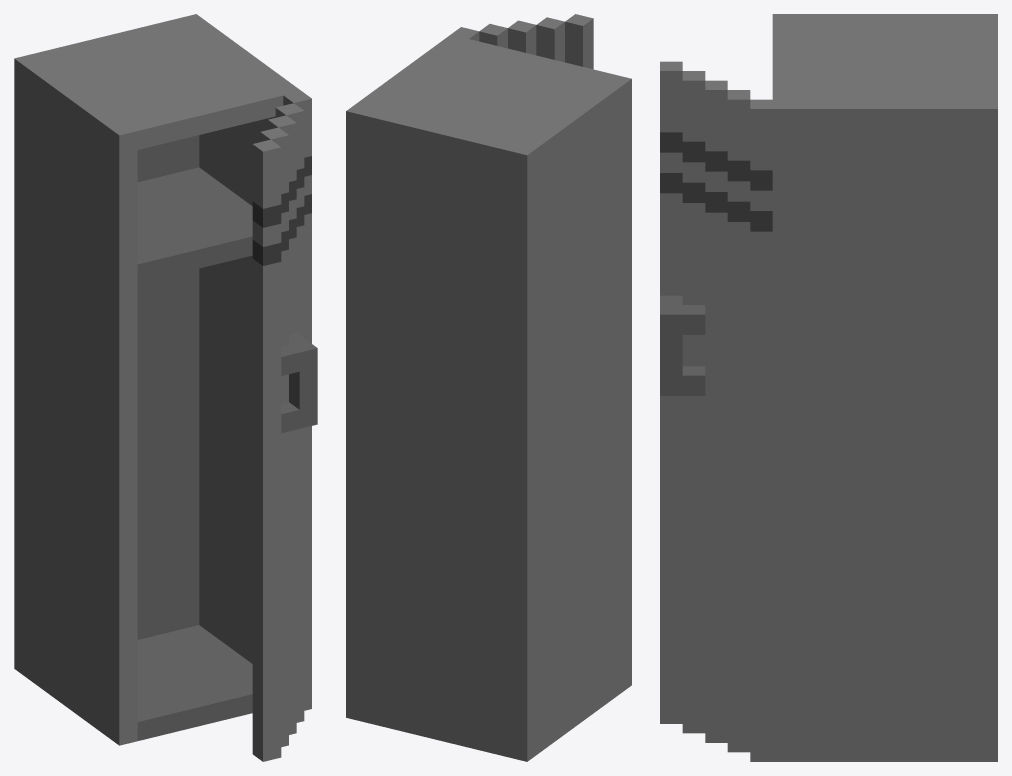
Rendered from Case_With_open_door.obj.
3 views of the same model, side by side, from view 1: azimuth 30°, elevation 25°; view 2: azimuth 150°, elevation 25°; view 3: azimuth 270°, elevation 25° (orthographic). The views are drawn at different scales.
Bounding box in the file's own units: 1 × 3.2 × 1.5.
1 material, 1 textured.
